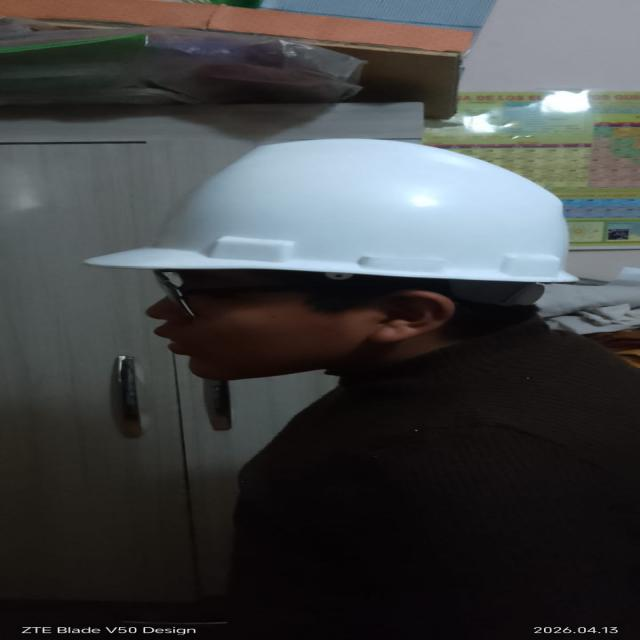casco: (95, 130, 609, 296)
